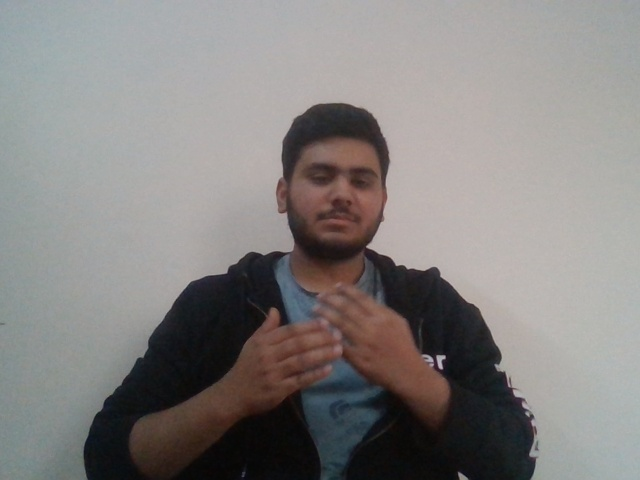Please: (244, 292, 436, 401)
